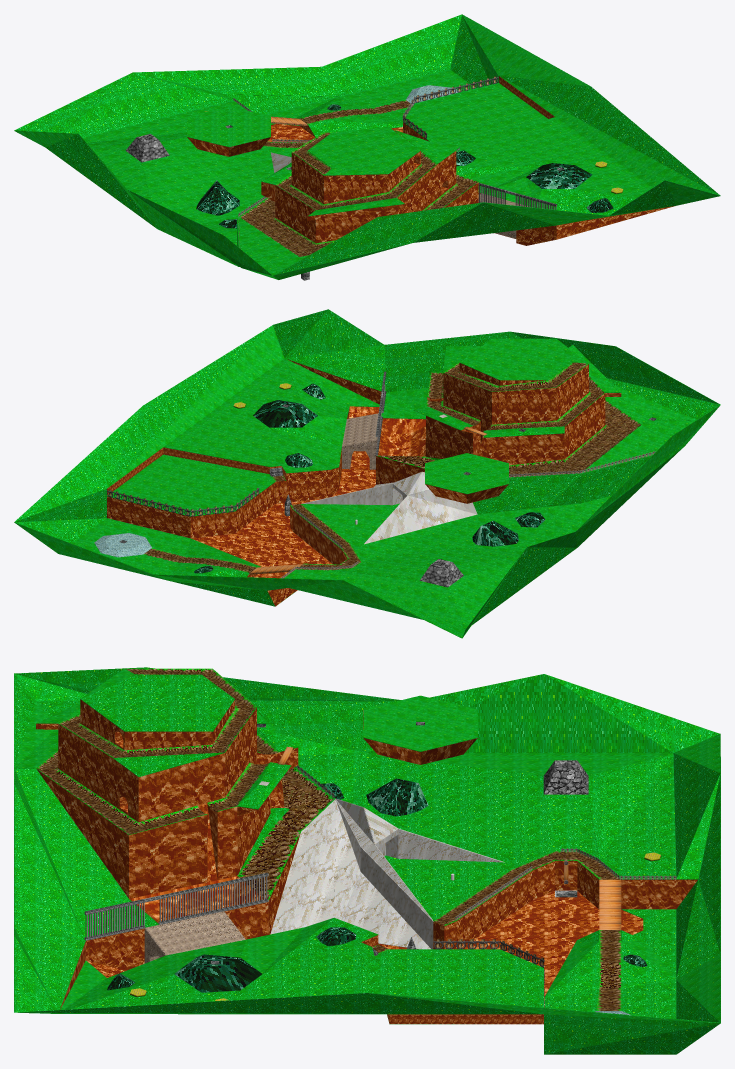
The model's file is bobbombDM.glb.
The picture shows the model from 3 angles, top to bottom: view 1: azimuth 30°, elevation 25°; view 2: azimuth 150°, elevation 25°; view 3: azimuth 270°, elevation 25°; orthographic projection. The views are drawn at different scales.
Parts seen in each view (by area): view 1: Shape_IndexedFaceSet.009, Shape_IndexedFaceSet.022, Shape_IndexedFaceSet.024, Shape_IndexedFaceSet.025, Shape_IndexedFaceSet.014, Shape_IndexedFaceSet.027, Shape_IndexedFaceSet.010, Shape_IndexedFaceSet.065, Shape_IndexedFaceSet.017, Shape_IndexedFaceSet.064, Shape_IndexedFaceSet.012; view 2: Shape_IndexedFaceSet.009, Shape_IndexedFaceSet.022, Shape_IndexedFaceSet.024, Shape_IndexedFaceSet.016, Shape_IndexedFaceSet.025, Shape_IndexedFaceSet.014, Shape_IndexedFaceSet.010, Shape_IndexedFaceSet.027, Shape_IndexedFaceSet.065, Shape_IndexedFaceSet.015, Shape_IndexedFaceSet.012, Shape_IndexedFaceSet.017 (+2 smaller); view 3: Shape_IndexedFaceSet.009, Shape_IndexedFaceSet.022, Shape_IndexedFaceSet.016, Shape_IndexedFaceSet.024, Shape_IndexedFaceSet.025, Shape_IndexedFaceSet.014, Shape_IndexedFaceSet.010, Shape_IndexedFaceSet.064, Shape_IndexedFaceSet.015, Shape_IndexedFaceSet.065, Shape_IndexedFaceSet.013, Shape_IndexedFaceSet.017 (+2 smaller).
Part boxes in pixels (box(x1,y1,x2,y2)): Shape_IndexedFaceSet.009: box(14, 14, 720, 279); Shape_IndexedFaceSet.022: box(187, 76, 674, 245); Shape_IndexedFaceSet.024: box(261, 127, 455, 216); Shape_IndexedFaceSet.025: box(239, 130, 478, 256); Shape_IndexedFaceSet.014: box(196, 104, 613, 228); Shape_IndexedFaceSet.027: box(244, 200, 328, 256); Shape_IndexedFaceSet.010: box(263, 100, 413, 148); Shape_IndexedFaceSet.065: box(233, 76, 498, 247); Shape_IndexedFaceSet.017: box(125, 134, 459, 162); Shape_IndexedFaceSet.064: box(479, 185, 556, 209); Shape_IndexedFaceSet.012: box(406, 85, 458, 105); Shape_IndexedFaceSet.009: box(14, 309, 720, 638); Shape_IndexedFaceSet.022: box(107, 359, 621, 606); Shape_IndexedFaceSet.024: box(413, 338, 621, 460); Shape_IndexedFaceSet.016: box(301, 414, 477, 544); Shape_IndexedFaceSet.025: box(376, 362, 641, 475); Shape_IndexedFaceSet.014: box(194, 383, 545, 573); Shape_IndexedFaceSet.010: box(143, 475, 361, 572); Shape_IndexedFaceSet.027: box(509, 404, 636, 476); Shape_IndexedFaceSet.065: box(107, 450, 656, 578); Shape_IndexedFaceSet.015: box(342, 413, 381, 469); Shape_IndexedFaceSet.012: box(94, 533, 151, 557); Shape_IndexedFaceSet.017: box(269, 467, 463, 587); Shape_IndexedFaceSet.009: box(14, 667, 720, 1054); Shape_IndexedFaceSet.022: box(36, 699, 697, 1024); Shape_IndexedFaceSet.016: box(259, 781, 504, 949); Shape_IndexedFaceSet.024: box(36, 668, 298, 873); Shape_IndexedFaceSet.025: box(36, 668, 333, 900); Shape_IndexedFaceSet.014: box(107, 778, 647, 992); Shape_IndexedFaceSet.010: box(372, 851, 621, 1010); Shape_IndexedFaceSet.064: box(85, 876, 267, 937); Shape_IndexedFaceSet.015: box(144, 911, 245, 963); Shape_IndexedFaceSet.065: box(295, 765, 676, 1007); Shape_IndexedFaceSet.013: box(84, 722, 577, 964); Shape_IndexedFaceSet.017: box(372, 760, 588, 955).
Size of the model in its own units: 226 by 64.89 by 226.
21 materials, 21 textured.
